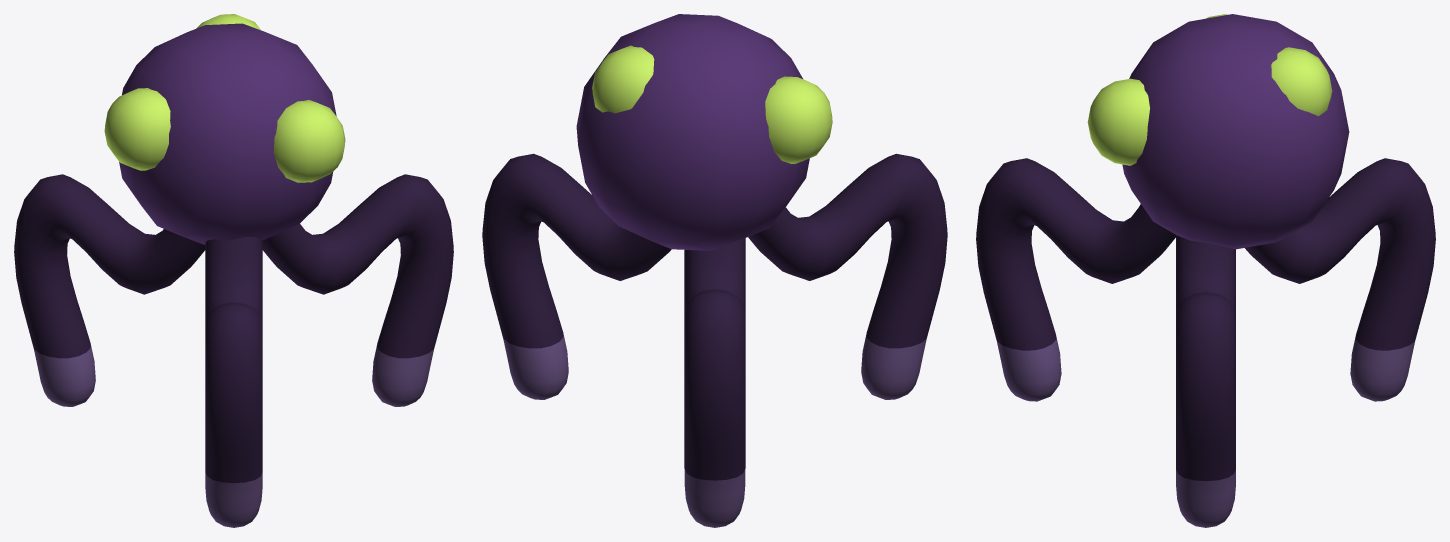
File: Hamii.fbx
3 views of the same model, side by side, from view 1: azimuth 30°, elevation 25°; view 2: azimuth 150°, elevation 25°; view 3: azimuth 270°, elevation 25° (orthographic). The views are drawn at different scales.
Parts seen in each view (by area): view 1: Hami Legs, Hami Head; view 2: Hami Legs, Hami Head; view 3: Hami Legs, Hami Head.
Boxes of the visible parts, bbox=[...] form: Hami Legs: bbox=[14, 174, 453, 527]; Hami Head: bbox=[104, 14, 345, 244]; Hami Legs: bbox=[482, 153, 947, 527]; Hami Head: bbox=[576, 14, 832, 250]; Hami Legs: bbox=[976, 158, 1435, 527]; Hami Head: bbox=[1087, 14, 1349, 249].
Size of the model in its own units: 618 by 701 by 699.
